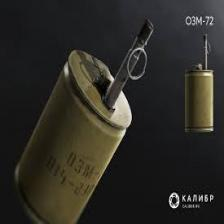OZM-72: (20, 55, 118, 222), (179, 62, 217, 139)
